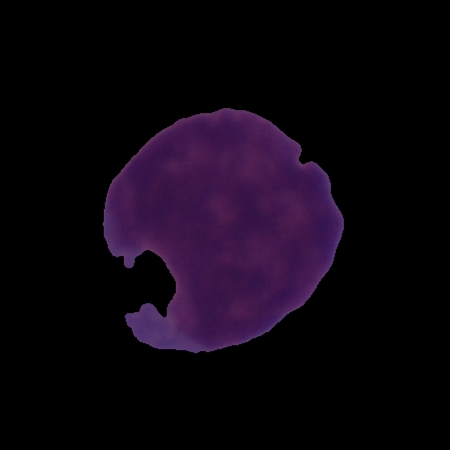ALL: (99, 104, 348, 355)
